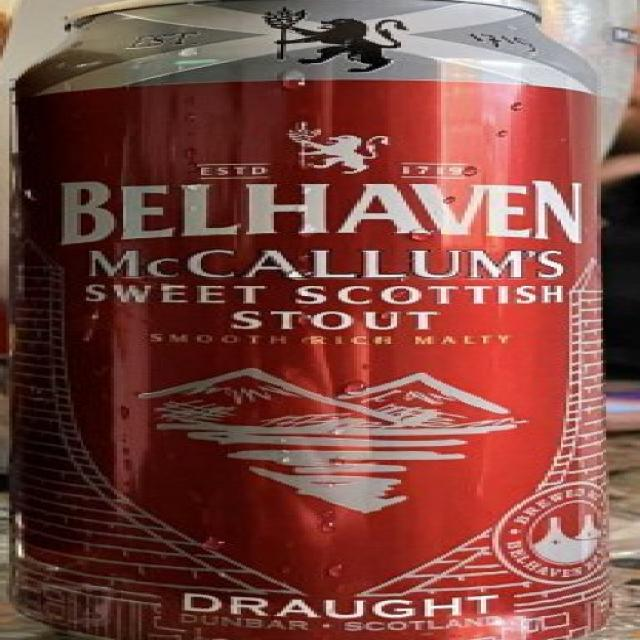Belhaven McCallum-s Sweet Scottish Stout: (0, 1, 640, 640)
